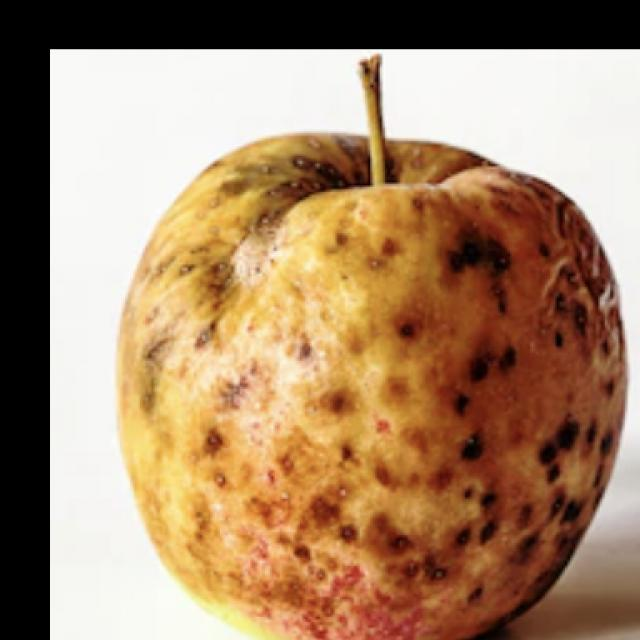Rotten: (154, 135, 628, 640)
